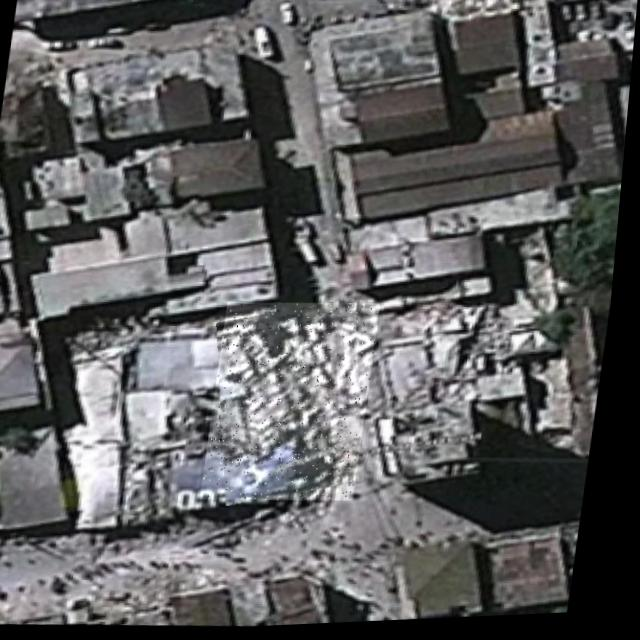Rubble: (208, 299, 386, 510)
